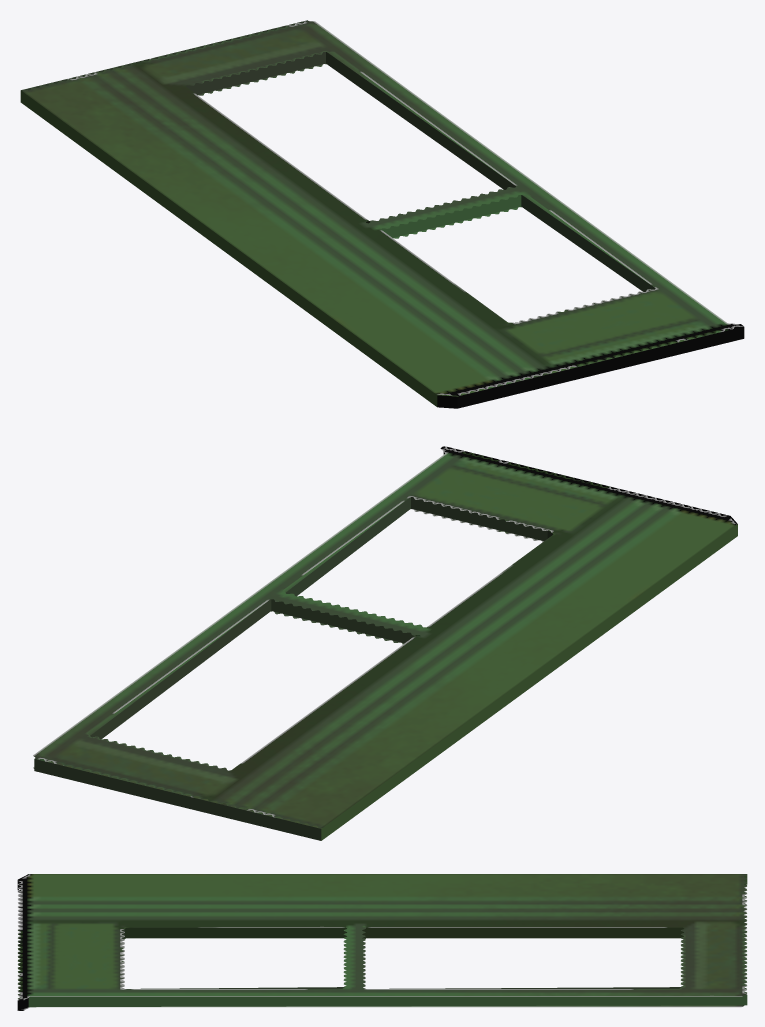
File: pz_native_location_shop_greenes_01_76_frame.obj
3 renders of one model, top to bottom at view 1: azimuth 30°, elevation 25°; view 2: azimuth 150°, elevation 25°; view 3: azimuth 270°, elevation 25°, orthographic. The views are drawn at different scales.
Visible parts, largest first — view 1: pz_native_location_shop_greenes_01_76_frame; view 2: pz_native_location_shop_greenes_01_76_frame; view 3: pz_native_location_shop_greenes_01_76_frame.
Boxes of the visible parts, x1=… form: pz_native_location_shop_greenes_01_76_frame: x1=20, y1=20, x2=744, y2=408; pz_native_location_shop_greenes_01_76_frame: x1=33, y1=446, x2=737, y2=840; pz_native_location_shop_greenes_01_76_frame: x1=17, y1=874, x2=747, y2=1010.
Size of the model in its own units: 1.06 by 0.04 by 2.54.
Materials: 1 (1 with a texture image).
